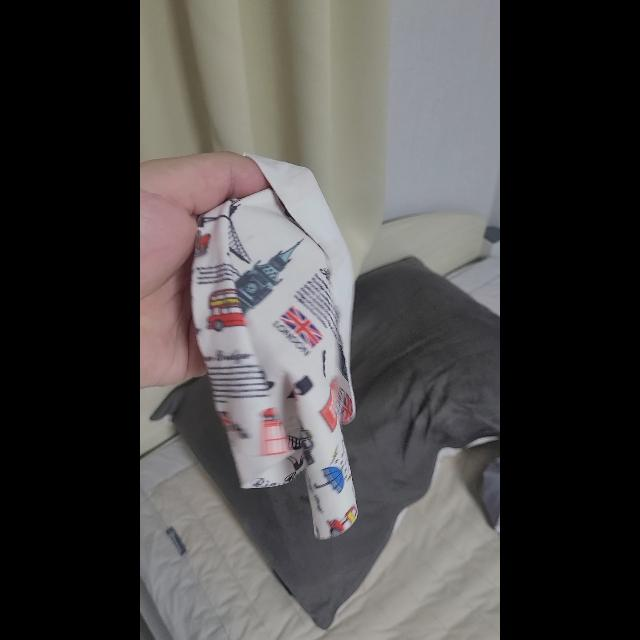Glasses cleaning cloth: (189, 152, 359, 540)
